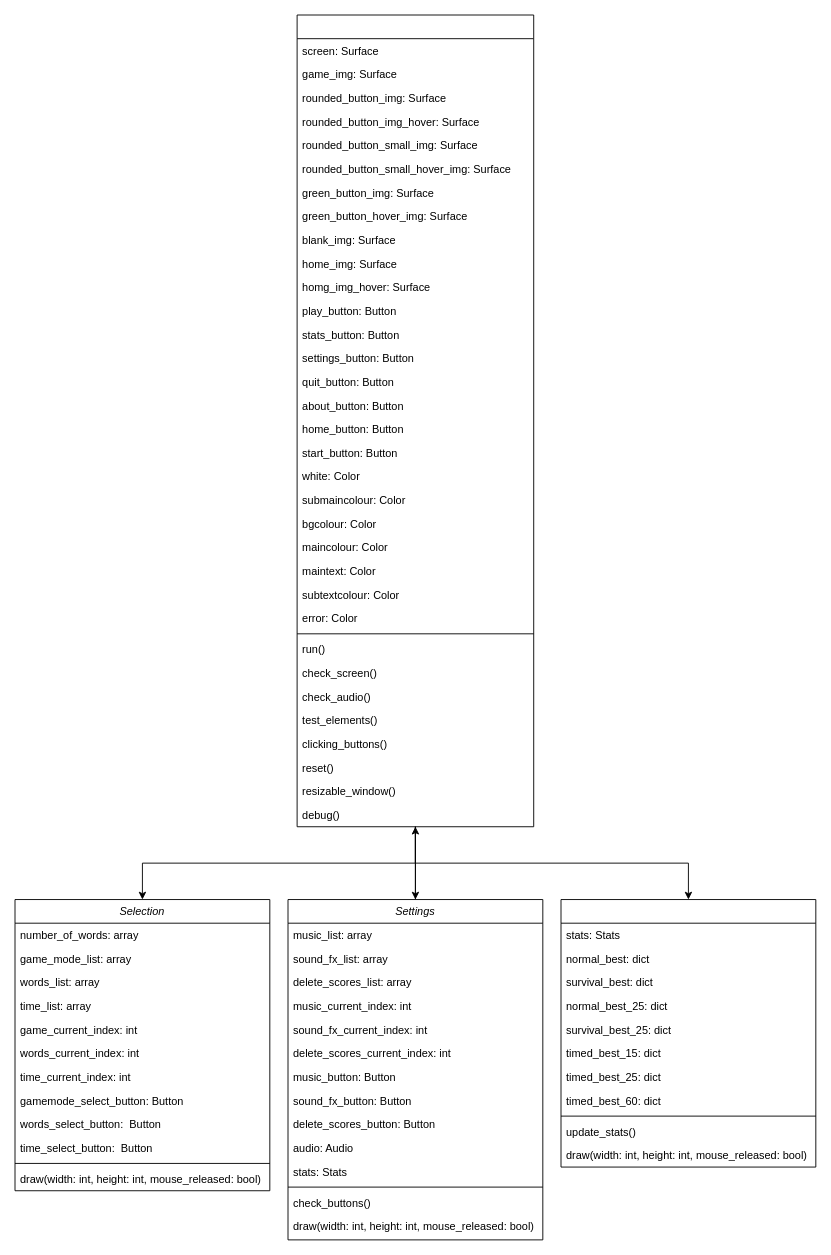
The diagram is 831 pixels wide and 1255 high, and some of its shapes have lost their labels. Each missing label, with the box of its shape:
Menu: (296, 14, 534, 827)
StatsMenu: (560, 899, 816, 1167)
